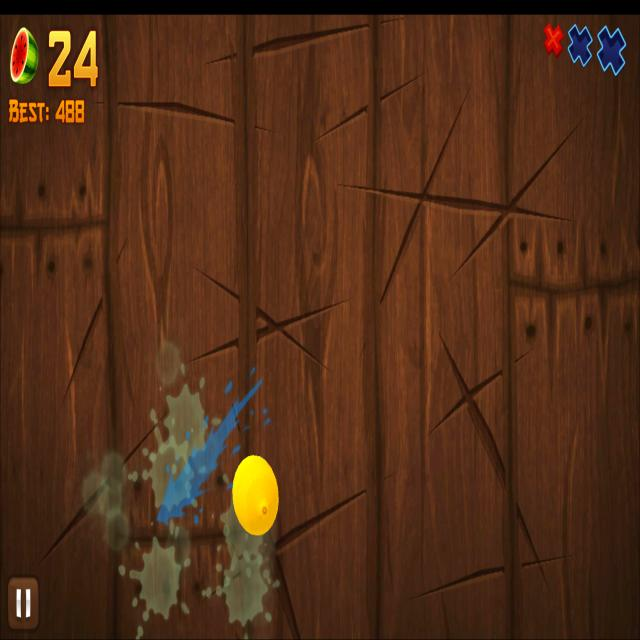fruit: (232, 455, 278, 536)
